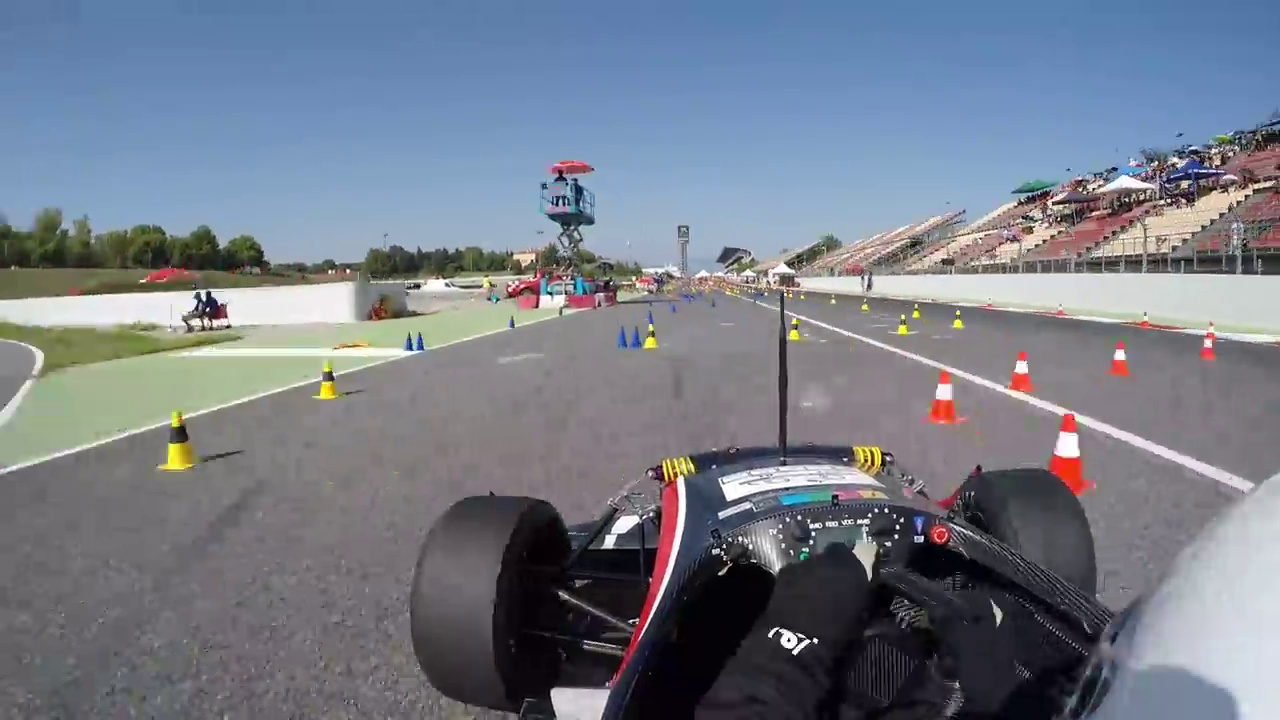Cone: (1047, 408, 1093, 497), (158, 411, 200, 473), (922, 371, 963, 429), (1006, 349, 1038, 395), (1106, 336, 1135, 380), (315, 359, 343, 399)
